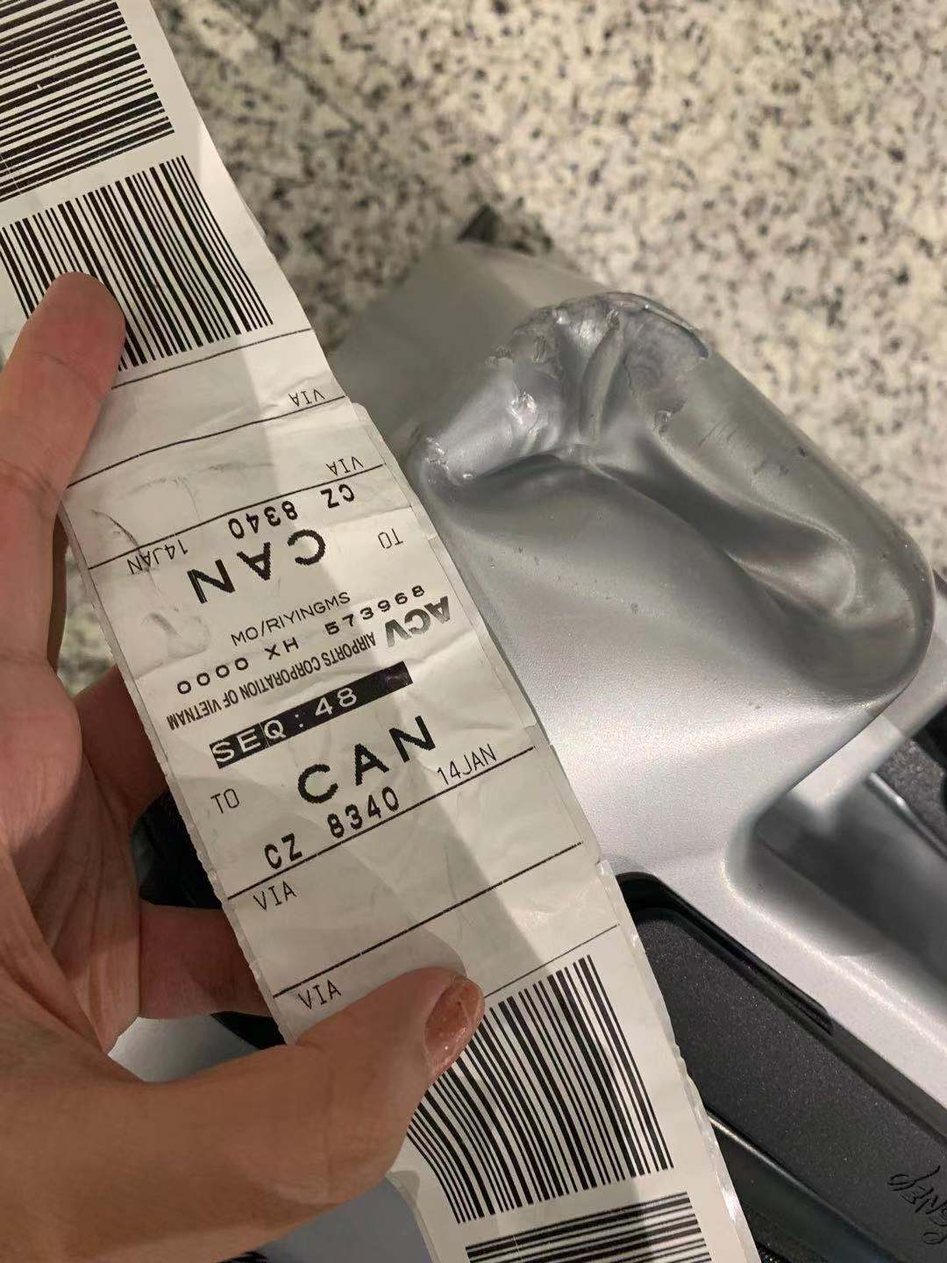hollow: (417, 289, 936, 712)
